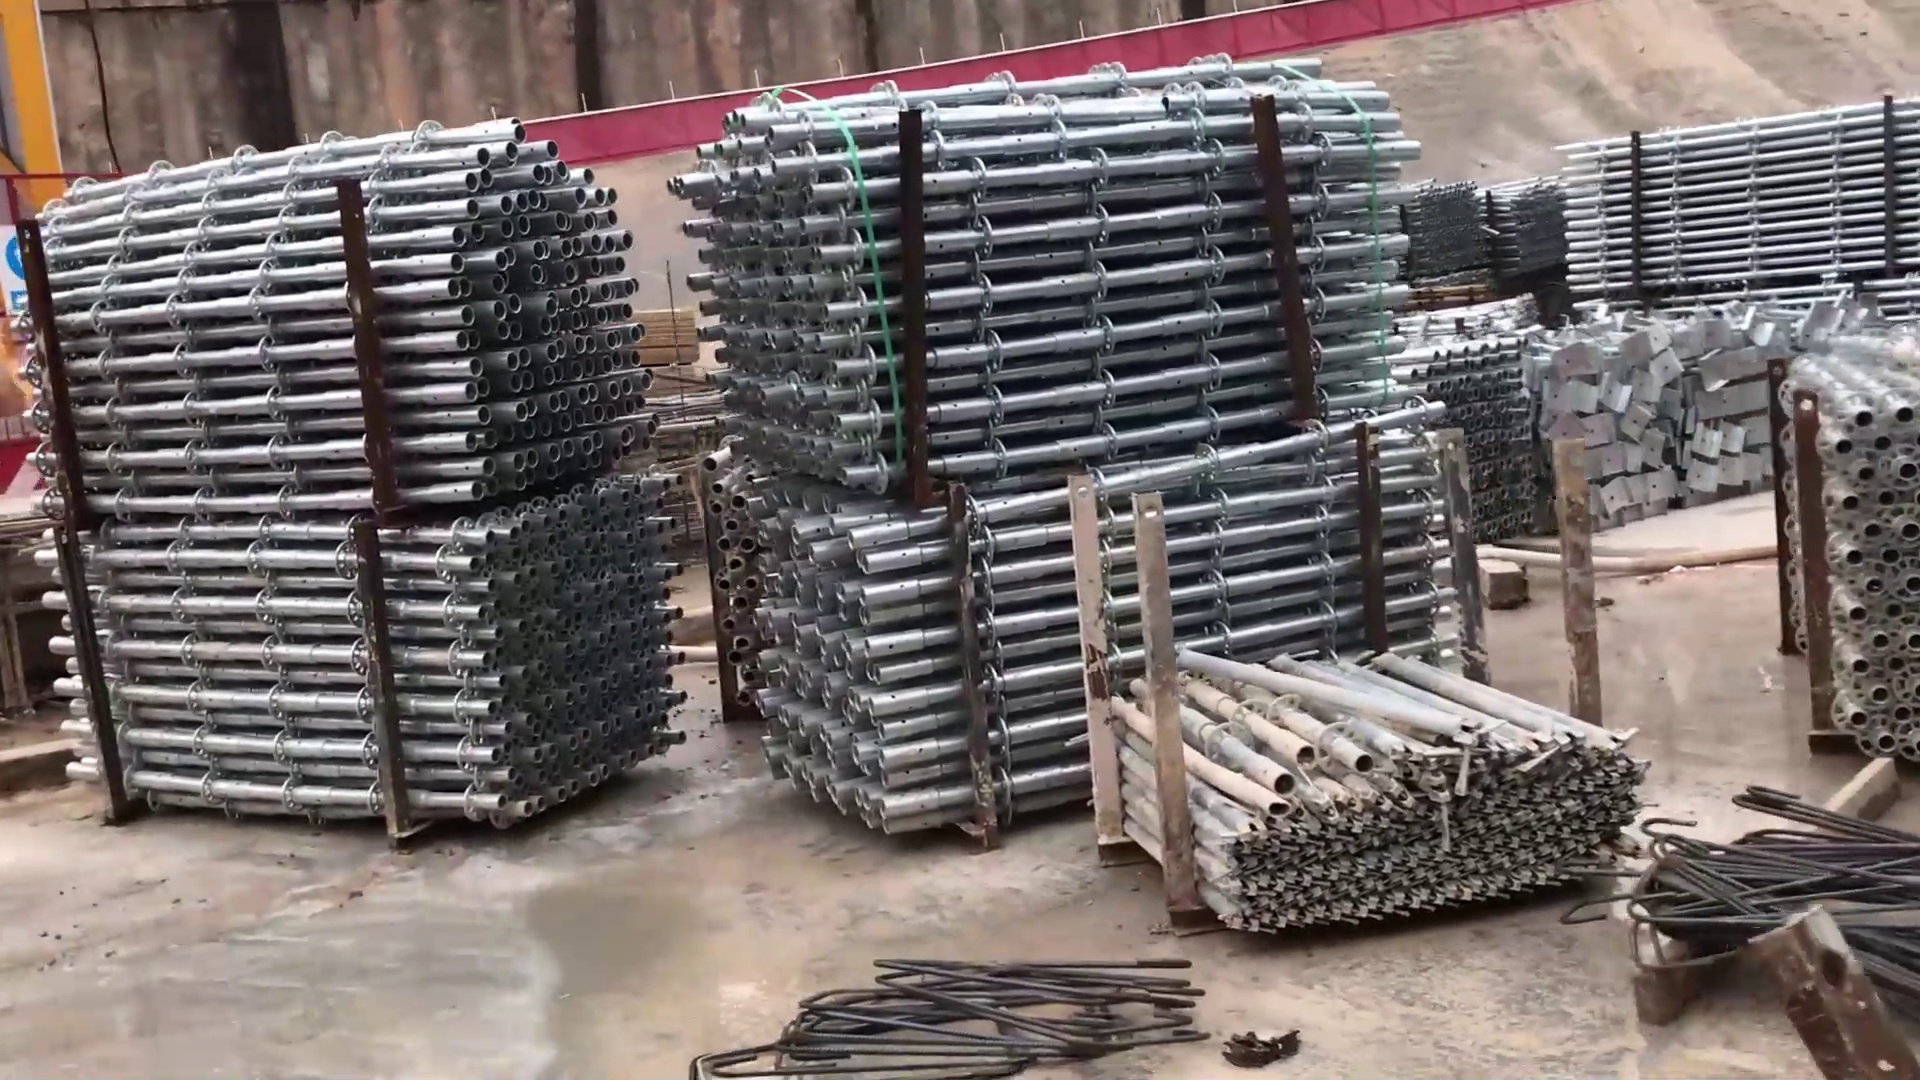rebar: (680, 939, 1185, 1080), (1600, 783, 1920, 978)
scaffold: (678, 50, 1477, 659), (44, 115, 686, 837), (1097, 647, 1648, 942), (1433, 315, 1784, 556), (1552, 90, 1917, 293), (1771, 281, 1920, 764), (1396, 167, 1563, 290)
